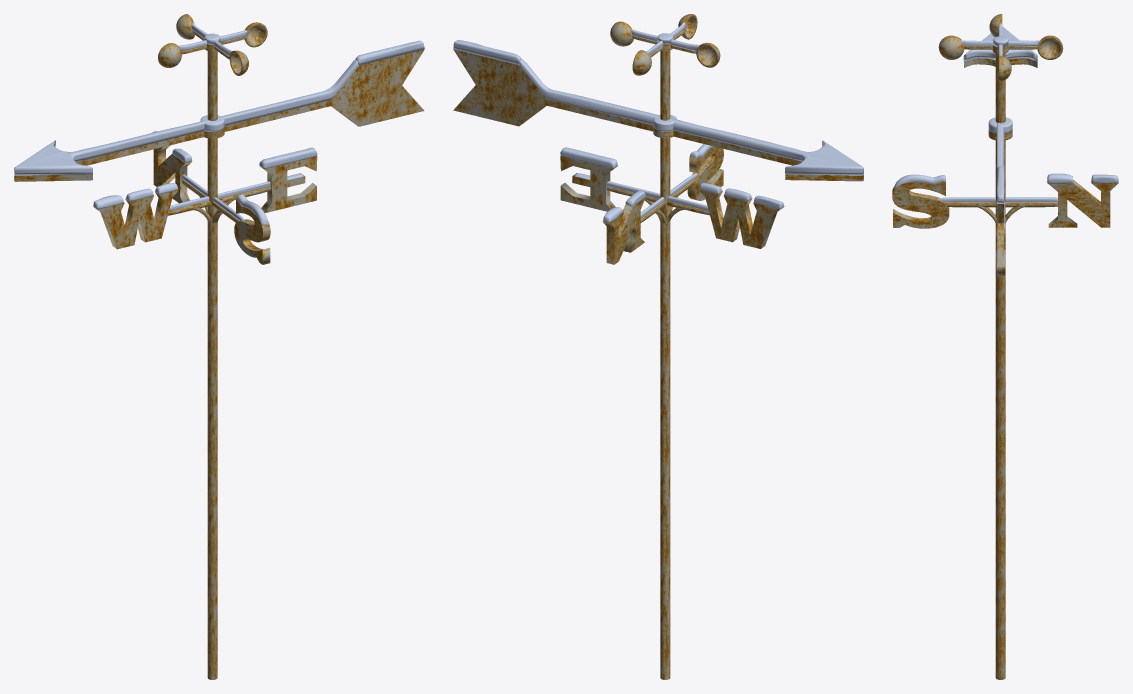
Rendered from windvane.glb.
3 renders of one model, left to right at view 1: azimuth 30°, elevation 25°; view 2: azimuth 150°, elevation 25°; view 3: azimuth 270°, elevation 25°, orthographic.
Parts seen in each view (by area): view 1: pillar, arrow, snowArrow, west, east, snowDir, south, north, snowDirBar, snowArrow.001, snowAne; view 2: pillar, arrow, snowArrow, west, east, snowDir, north, south, snowDirBar, snowArrow.001, snowAne; view 3: pillar, south, north, snowArrow, arrow, snowDirBar, snowAne, snowDir, Cube.001, Sphere.003, Sphere.004, snowDirS.
Boxes of the visible parts, x1,y1,x2,y2 form: pillar: (207, 51, 217, 679); arrow: (14, 49, 424, 181); snowArrow: (14, 59, 358, 175); west: (93, 189, 178, 249); east: (261, 156, 317, 212); snowDir: (93, 131, 317, 208); south: (234, 199, 270, 264); north: (153, 145, 192, 203); snowDirBar: (169, 174, 303, 220); snowArrow.001: (355, 40, 424, 65); snowAne: (178, 23, 246, 55); pillar: (660, 50, 670, 679); arrow: (453, 49, 863, 181); snowArrow: (519, 59, 863, 175); west: (699, 189, 784, 248); east: (560, 155, 617, 211); snowDir: (560, 147, 783, 222); north: (602, 197, 645, 264); south: (687, 146, 723, 200); snowDirBar: (575, 173, 708, 218); snowArrow.001: (453, 40, 521, 64); snowAne: (631, 22, 699, 54); pillar: (995, 53, 1005, 679); south: (892, 181, 949, 228); north: (1047, 179, 1118, 227); snowArrow: (963, 26, 1037, 169); arrow: (964, 58, 1037, 264); snowDirBar: (937, 197, 1057, 202); snowAne: (961, 23, 1040, 56); snowDir: (996, 173, 1118, 231); Cube.001: (944, 202, 1057, 207); Sphere.003: (1037, 35, 1063, 59); Sphere.004: (938, 35, 964, 59); snowDirS: (894, 174, 945, 188).
Bounding box in the file's own units: 1.71 × 2.58 × 0.8253.
Materials: 2 (1 with a texture image).
